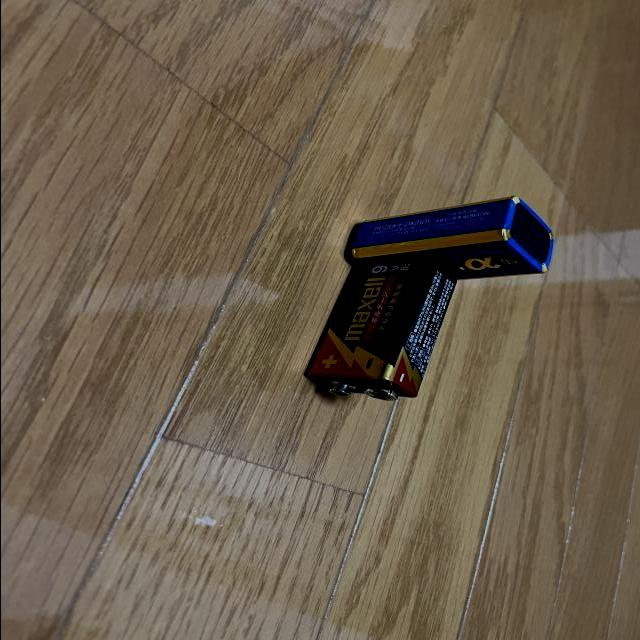9V: (302, 258, 455, 403), (345, 195, 555, 284)
